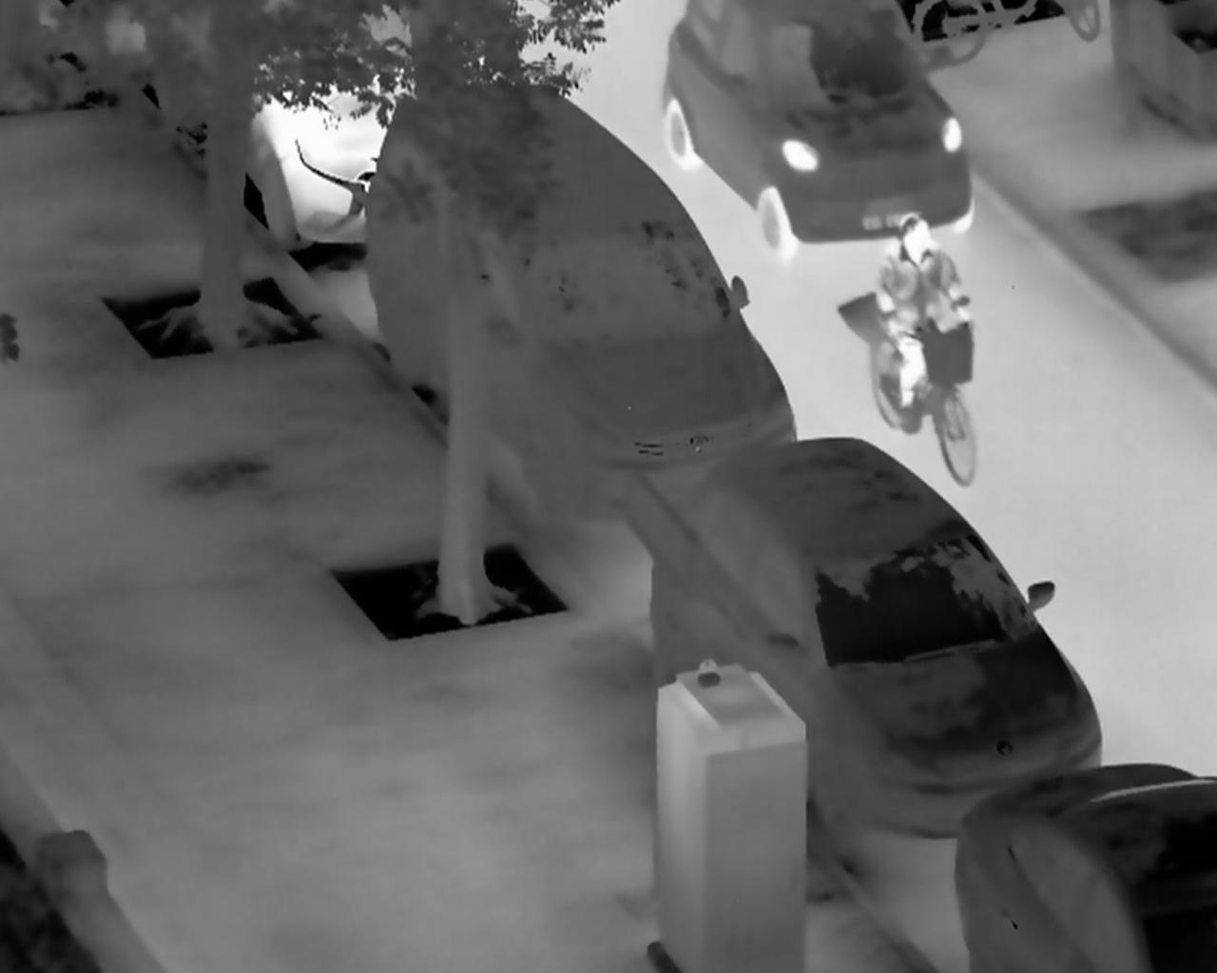person: (872, 210, 975, 437)
